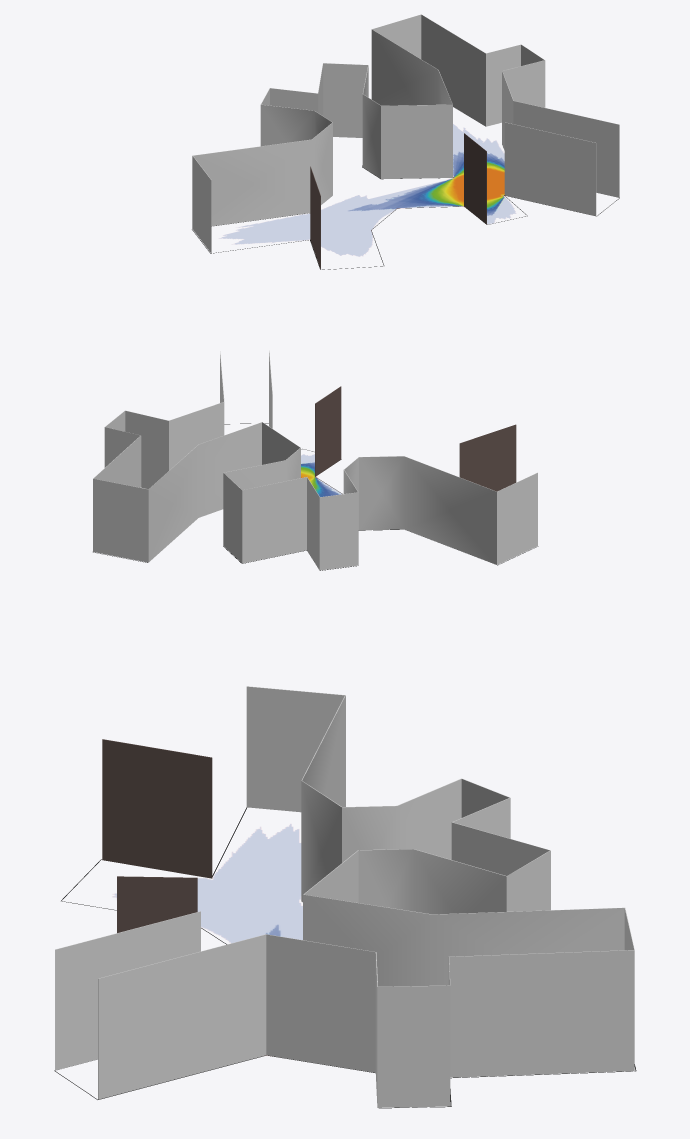
Rendered from House-O2.glb.
3 renders of one model, top to bottom at view 1: azimuth 30°, elevation 25°; view 2: azimuth 150°, elevation 25°; view 3: azimuth 270°, elevation 25°, orthographic. The views are drawn at different scales.
Parts seen in each view (by area): view 1: Mesh_3, House-O, Mesh_2, Mesh_0, Mesh_1; view 2: Mesh_3, Mesh_1, Mesh_0, House-O; view 3: Mesh_3, Mesh_1, Mesh_2, House-O, Mesh_0, Curve.001.
Part boxes in pixels (x1,y1,x2,y2): Mesh_3: (192,14,619,253); House-O: (222,124,515,256); Mesh_2: (504,122,596,215); Mesh_0: (464,133,486,224); Mesh_1: (310,166,320,268); Mesh_3: (93,351,537,570); Mesh_1: (459,424,516,491); Mesh_0: (315,386,341,476); House-O: (301,454,340,496); Mesh_3: (98,686,634,1107); Mesh_1: (102,739,212,878); Mesh_2: (55,911,200,1070); House-O: (113,824,302,942); Mesh_0: (117,876,197,932); Curve.001: (54,807,636,1108).
Bounding box in the file's own units: 0.3399 × 0.0516 × 0.2558.
Materials: 6 (1 with a texture image).
